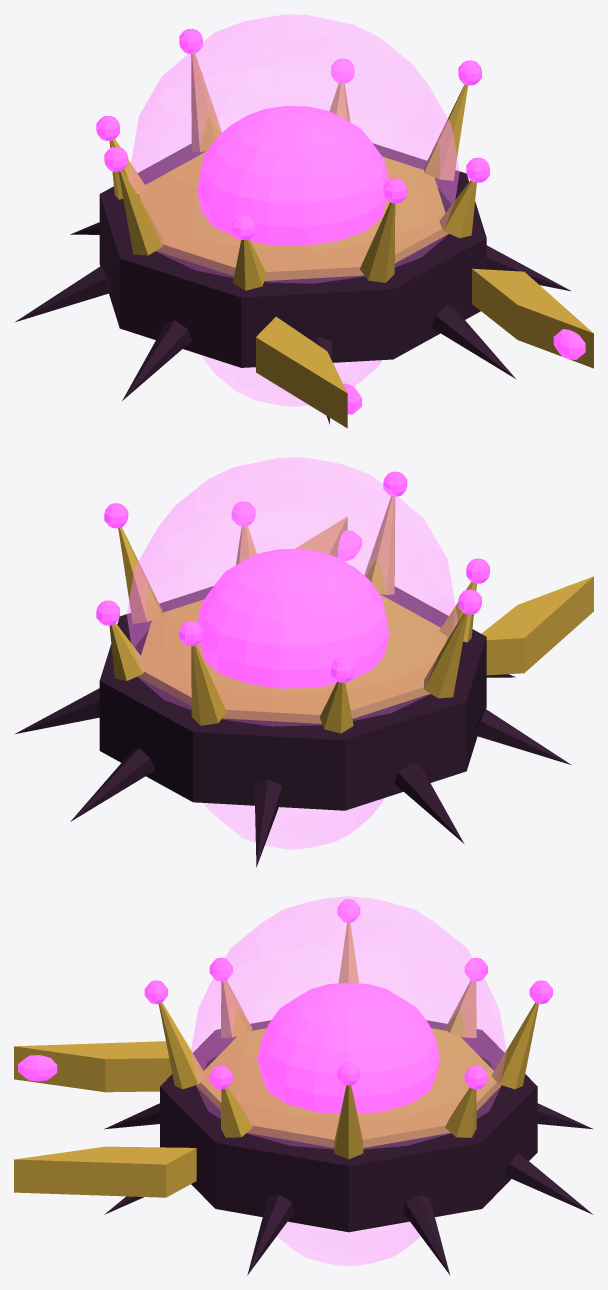
Rendered from enemy_overlord.glb.
3 renders of one model, top to bottom at view 1: azimuth 30°, elevation 25°; view 2: azimuth 150°, elevation 25°; view 3: azimuth 270°, elevation 25°, orthographic. The views are drawn at different scales.
Visible parts, largest first — view 1: enemy_overlord; view 2: enemy_overlord; view 3: enemy_overlord.
Boxes of the visible parts, x1,y1,x2,y2 form: enemy_overlord: (15,14,593,428); enemy_overlord: (14,457,593,867); enemy_overlord: (14,896,593,1275).
Bounding box in the file's own units: 1.61 × 1.26 × 1.91.
